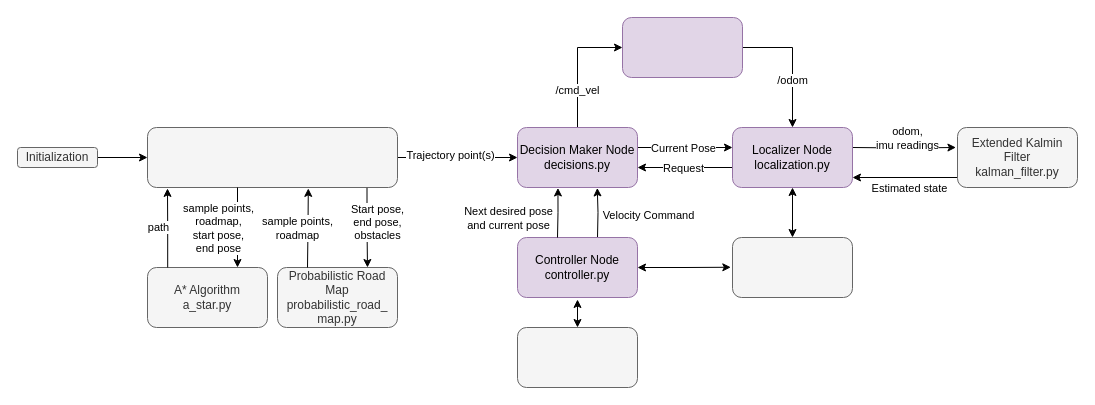
Some shapes in this 1095 by 405 pixel diagram are drawn without their labels. Here are the shapes that lost their labels. From the top down, the centre of each, then its label:
At pixel 682 47: "TurtleBot Node".
At pixel 272 157: "Trajectory/Point Generator planner.py".
At pixel 792 267: "Utility Functions".
At pixel 577 357: "PID functions pid.py".
